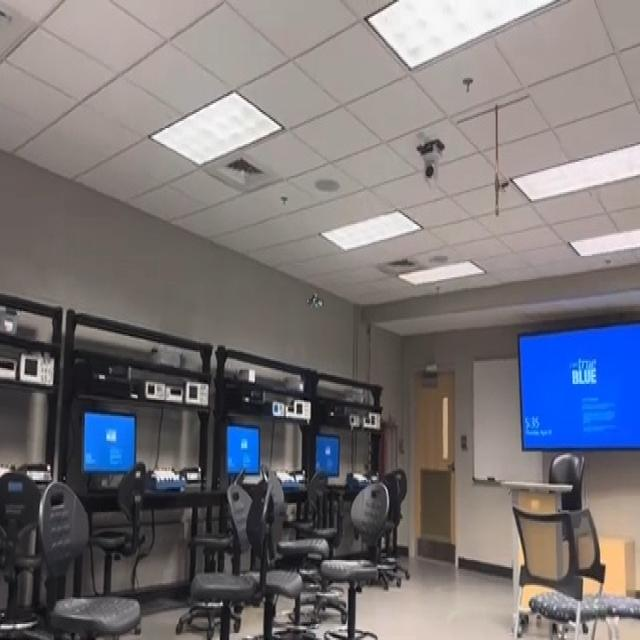drone: (300, 278, 329, 324)
